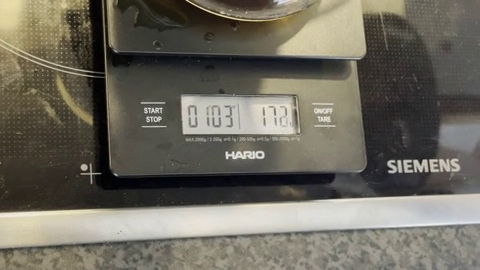display: (181, 95, 296, 134)
